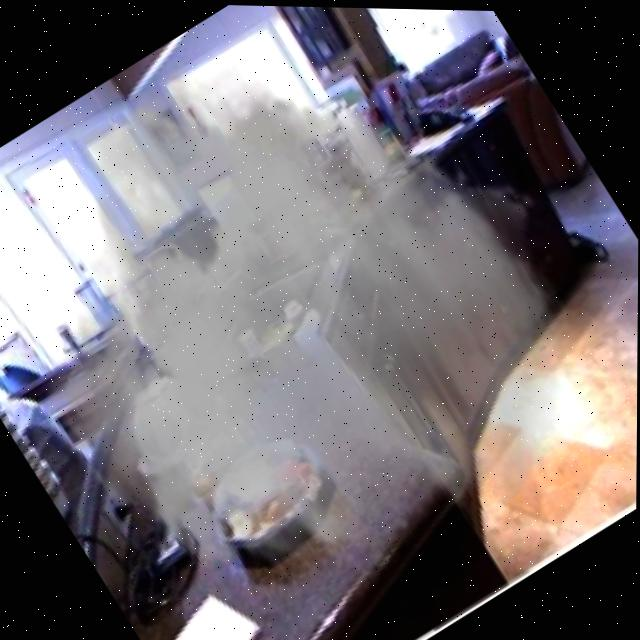Smoke: (0, 4, 638, 640)
